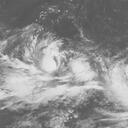cyclone: (23, 36, 103, 101)
